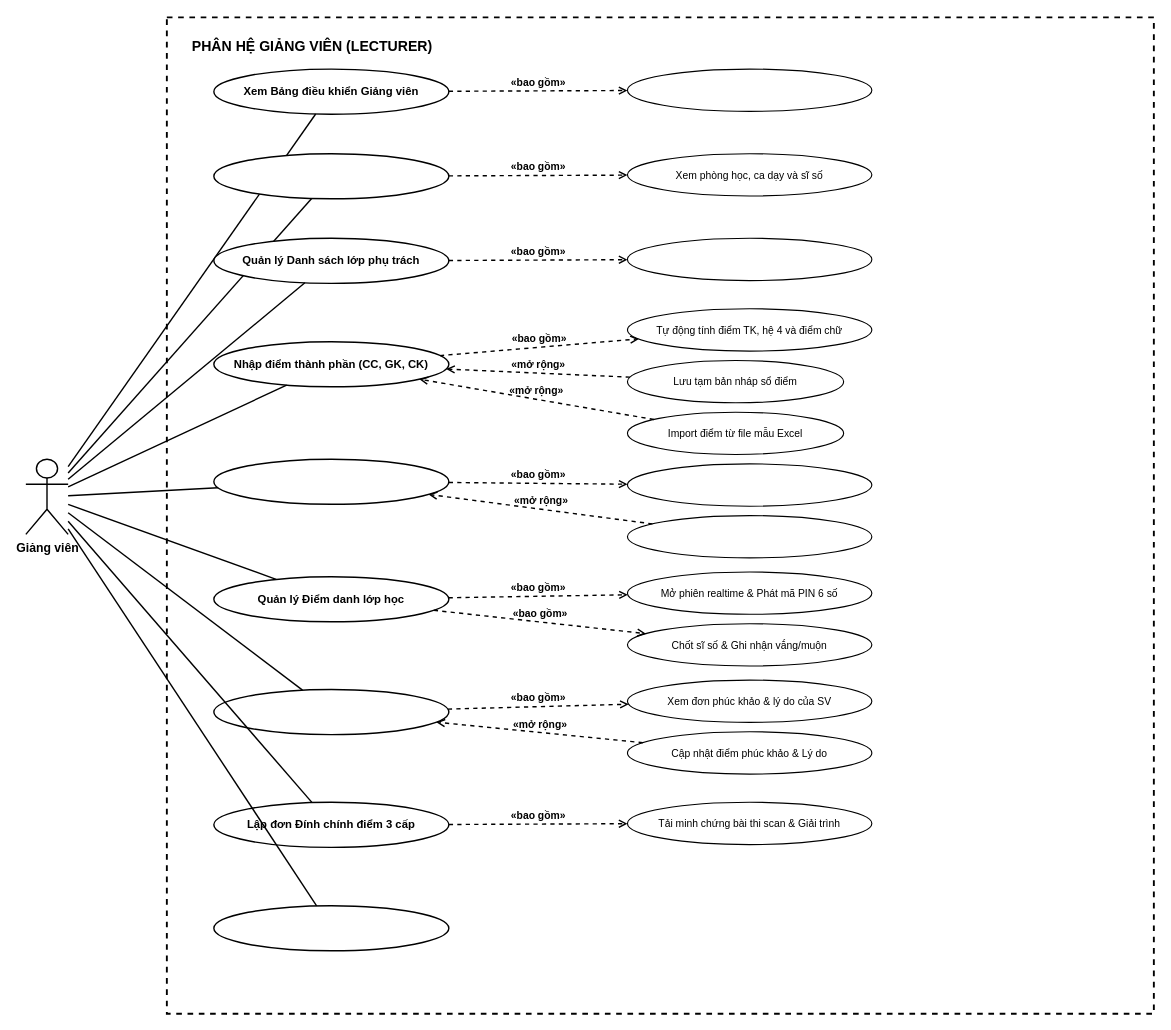
This 1171x1030 diagram has some shape labels left out. Here are the shapes that lost their labels. From the top down, the box of each, then its label:
(626, 68, 872, 111): Thống kê sĩ số và tiến độ các lớp dạy
(213, 153, 449, 199): Tra cứu Lịch dạy theo tuần
(626, 237, 872, 281): Xem & Xuất danh sách SV ra Excel
(213, 458, 449, 505): Chốt & Công bố bảng điểm học phần
(626, 463, 872, 506): Kiểm tra điều kiện 100% SV đủ điểm
(626, 515, 872, 558): Chỉnh sửa điểm trong cửa sổ 7 ngày
(213, 688, 449, 735): Xét duyệt & Chấm phúc khảo điểm
(213, 905, 449, 951): Xem hồ sơ & Đổi mật khẩu cá nhân
